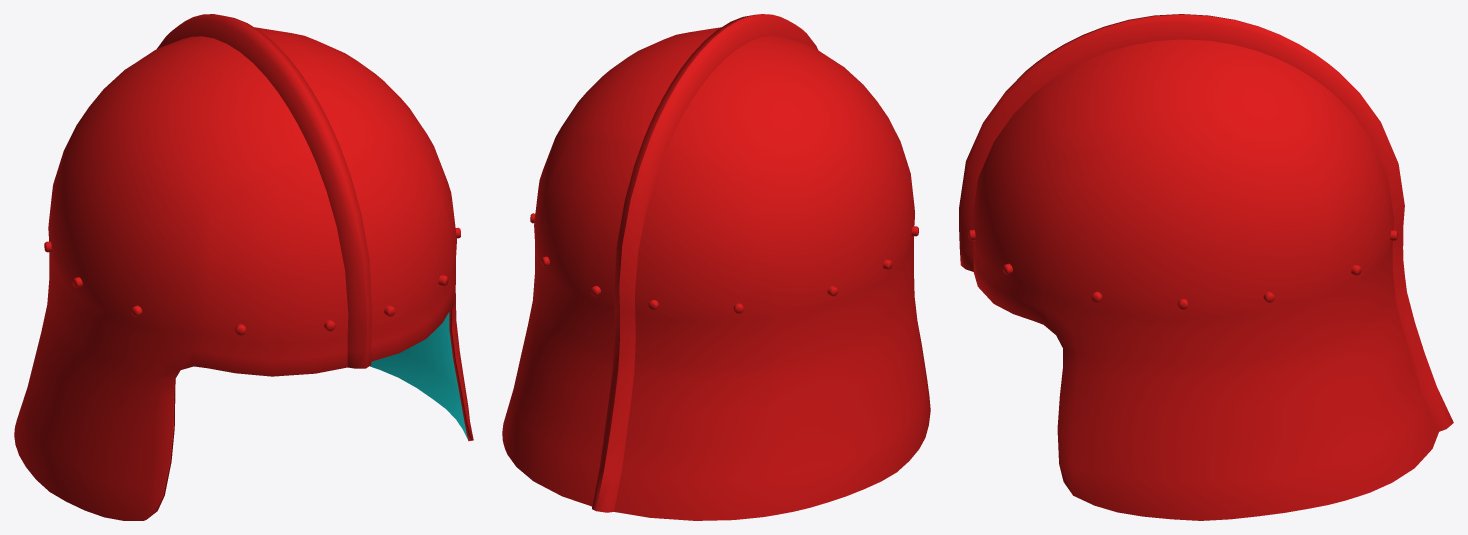
File: helmet.dae
3 renders of one model, left to right at view 1: azimuth 30°, elevation 25°; view 2: azimuth 150°, elevation 25°; view 3: azimuth 270°, elevation 25°, orthographic. The views are drawn at different scales.
Visible parts, largest first — view 1: SM_Helmet_Archers.001; view 2: SM_Helmet_Archers.001; view 3: SM_Helmet_Archers.001.
Part boxes in pixels (box(x1,y1,x2,y2)): SM_Helmet_Archers.001: box(14, 14, 473, 520); SM_Helmet_Archers.001: box(502, 14, 930, 520); SM_Helmet_Archers.001: box(959, 14, 1453, 520).
Bounding box in the file's own units: 1.78 × 1.85 × 2.
